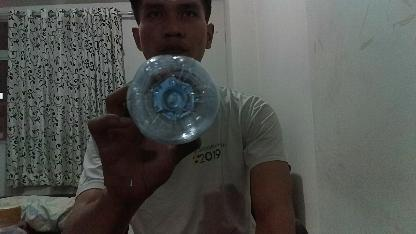Plastic Bottle: (130, 58, 219, 144)
